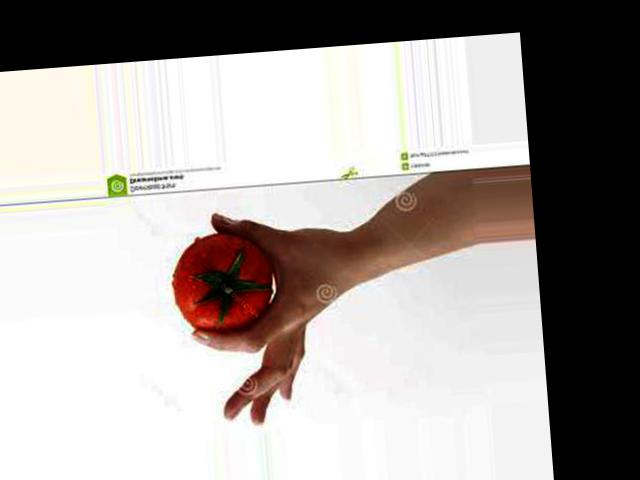tomato: (169, 229, 276, 336)
